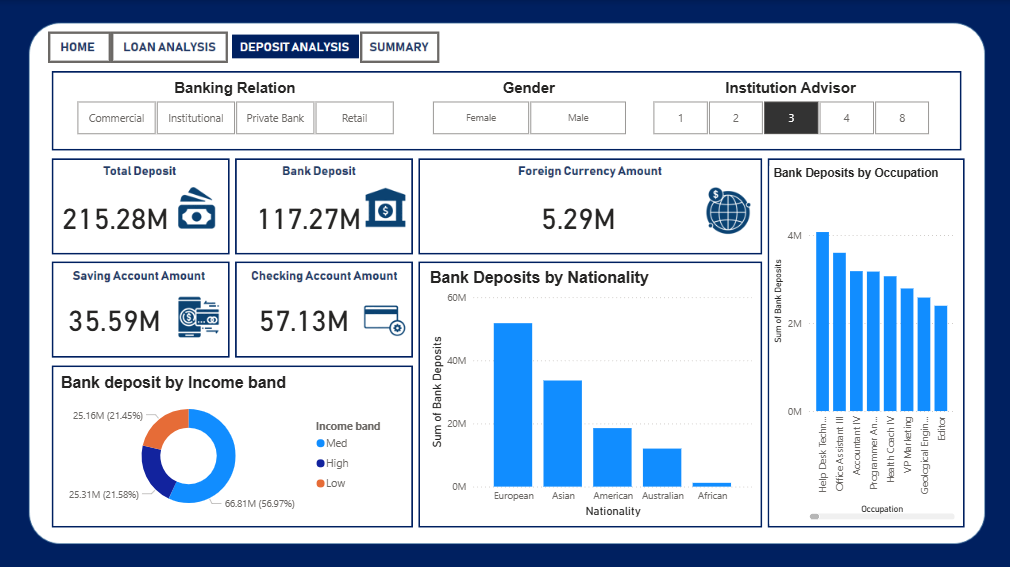

What the dashboard file says about the page in this screenshot:
{"tool":"powerbi","page":{"name":"Deposit Analysis","canvas":[1280,720],"ordinal":2},"visuals":[{"type":"card","fields":{"Values":["Query1.Total Deposit"]},"box":[64.3,230.6,168.2,83.2],"z":0},{"type":"card","fields":{"Values":["Sum(Query1.Checking Accounts)"]},"box":[313.7,359.1,143.6,83.2],"z":1000},{"type":"card","fields":{"Values":["Sum(Query1.Bank Deposits)"]},"box":[313.7,230.6,156.9,83.2],"z":2000},{"type":"card","fields":{"Values":["Sum(Query1.Saving Accounts)"]},"box":[75.6,359.1,143.6,83.2],"z":3000},{"type":"card","fields":{"Values":["Sum(Query1.Foreign Currency Account)"]},"box":[582.1,230.6,298.6,83.2],"z":4000},{"type":"donutChart","title":"Bank deposit by Income band ","fields":{"Category":["Query1.Income band"],"Y":["Sum(Query1.Bank Deposits)"]},"box":[75.6,470.6,430.9,185.2],"z":5000},{"type":"columnChart","title":"Bank Deposits by Nationality","fields":{"Category":["Query1.Nationality"],"Y":["Sum(Query1.Bank Deposits)"]},"box":[540.5,338.3,415.8,317.5],"z":6000},{"type":"lineStackedColumnComboChart","title":" Bank Deposits by Occupation","fields":{"Category":["Query1.Occupation"],"Y":["Sum(Query1.Bank Deposits)"]},"box":[973.2,209.8,238.1,449.8],"z":7000},{"type":"slicer","title":"Banking Relation","fields":{"Values":["Query1.BRId"]},"box":[75.6,100.2,447.9,75.6],"z":8000},{"type":"slicer","title":"Gender","fields":{"Values":["Query1.GenderId"]},"box":[523.5,100.2,292.9,75.6],"z":9000},{"type":"slicer","title":"Institution Advisor","fields":{"Values":["Query1.IAId"]},"box":[801.3,100.2,396.9,75.6],"z":10000},{"type":"actionButton","box":[64.3,39.7,79.4,39.7],"z":11000},{"type":"actionButton","box":[143.6,39.7,147.4,39.7],"z":12000},{"type":"actionButton","box":[457.3,39.7,100.2,39.7],"z":13000}]}

Visuals, with their boxes in screenshot pixels (x1, y1, x2, y2), scaled from the page's 1280x720 canvas onto the 1010x567 screenshot:
card - Query1.Total Deposit: bbox=[51, 182, 183, 247]
card - Sum(Query1.Checking Accounts): bbox=[248, 283, 361, 348]
card - Sum(Query1.Bank Deposits): bbox=[248, 182, 371, 247]
card - Sum(Query1.Saving Accounts): bbox=[60, 283, 173, 348]
card - Sum(Query1.Foreign Currency Account): bbox=[459, 182, 695, 247]
"Bank deposit by Income band " donutChart: bbox=[60, 371, 400, 516]
"Bank Deposits by Nationality" columnChart: bbox=[426, 266, 755, 516]
" Bank Deposits by Occupation" lineStackedColumnComboChart: bbox=[768, 165, 956, 519]
"Banking Relation" slicer: bbox=[60, 79, 413, 138]
"Gender" slicer: bbox=[413, 79, 644, 138]
"Institution Advisor" slicer: bbox=[632, 79, 945, 138]
actionButton: bbox=[51, 31, 113, 63]
actionButton: bbox=[113, 31, 230, 63]
actionButton: bbox=[361, 31, 440, 63]
